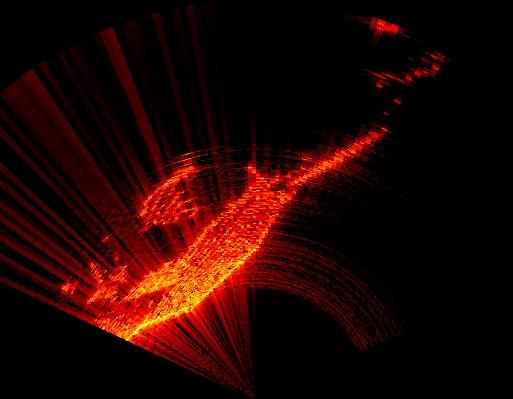shipwreck: (90, 128, 386, 314), (136, 162, 198, 226), (126, 293, 193, 335)
